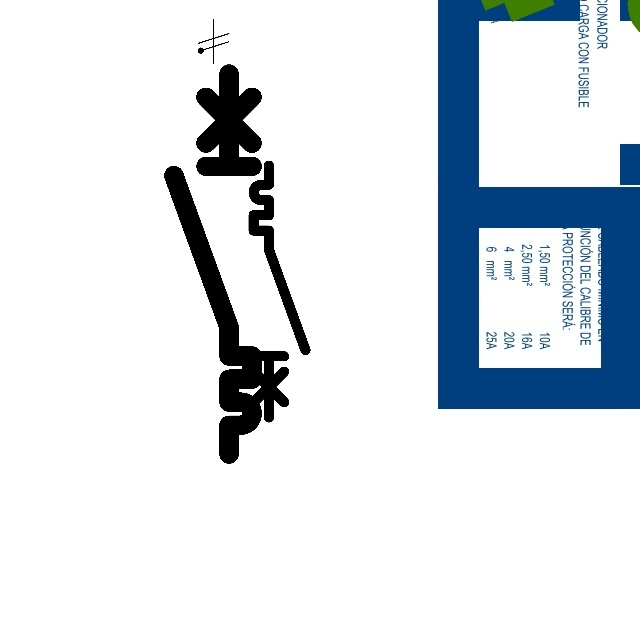interruptor_termomagnetico: (164, 64, 262, 464), (247, 159, 311, 424)
